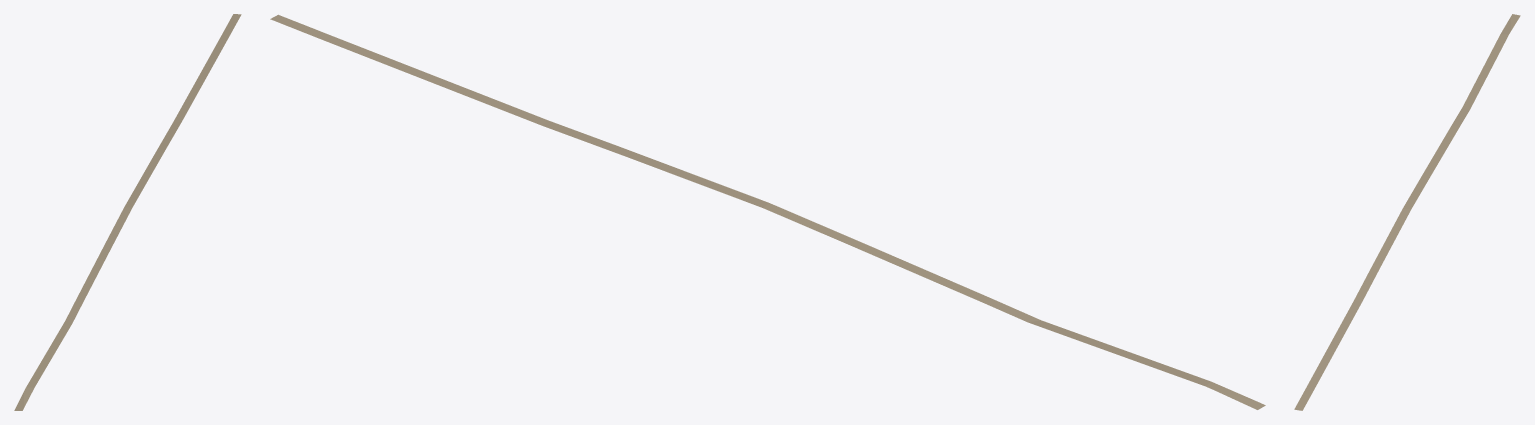
Rendered from farm_5_-3_track.glb.
3 views of the same model, side by side, from view 1: azimuth 90°, elevation 25°; view 2: azimuth 150°, elevation 25°; view 3: azimuth 270°, elevation 25° (orthographic). The views are drawn at different scales.
Parts seen in each view (by area): view 1: geometry_0; view 2: geometry_0; view 3: geometry_0.
Boxes of the visible parts, x1=… form: geometry_0: x1=14, y1=14, x2=241, y2=410; geometry_0: x1=270, y1=14, x2=1265, y2=409; geometry_0: x1=1294, y1=14, x2=1520, y2=410.
Bounding box in the file's own units: 358 × 3.05 × 86.55.
